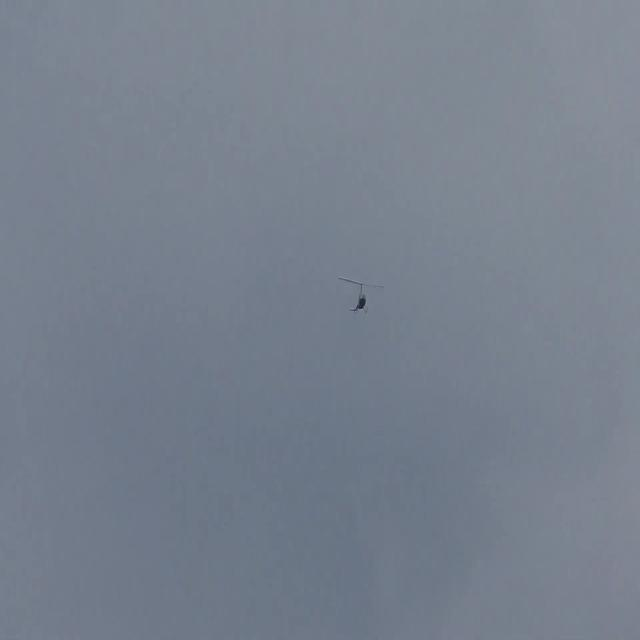CIV_HELO: (348, 282, 368, 314)
